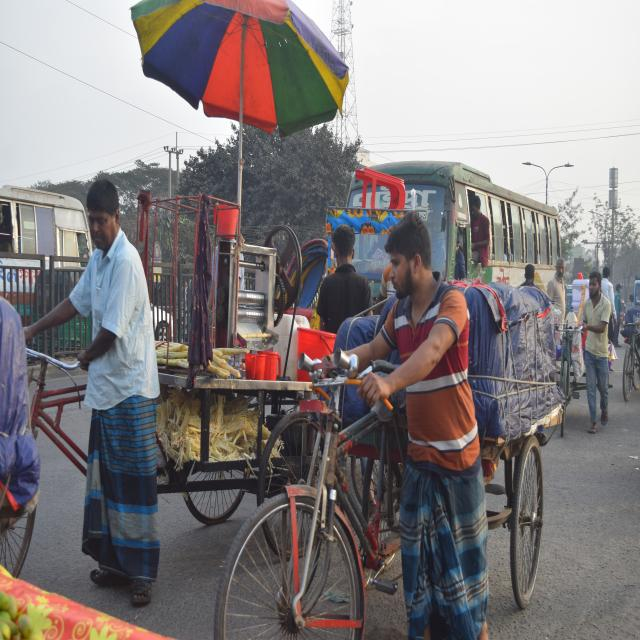bus: (346, 157, 559, 295), (0, 181, 93, 310)
